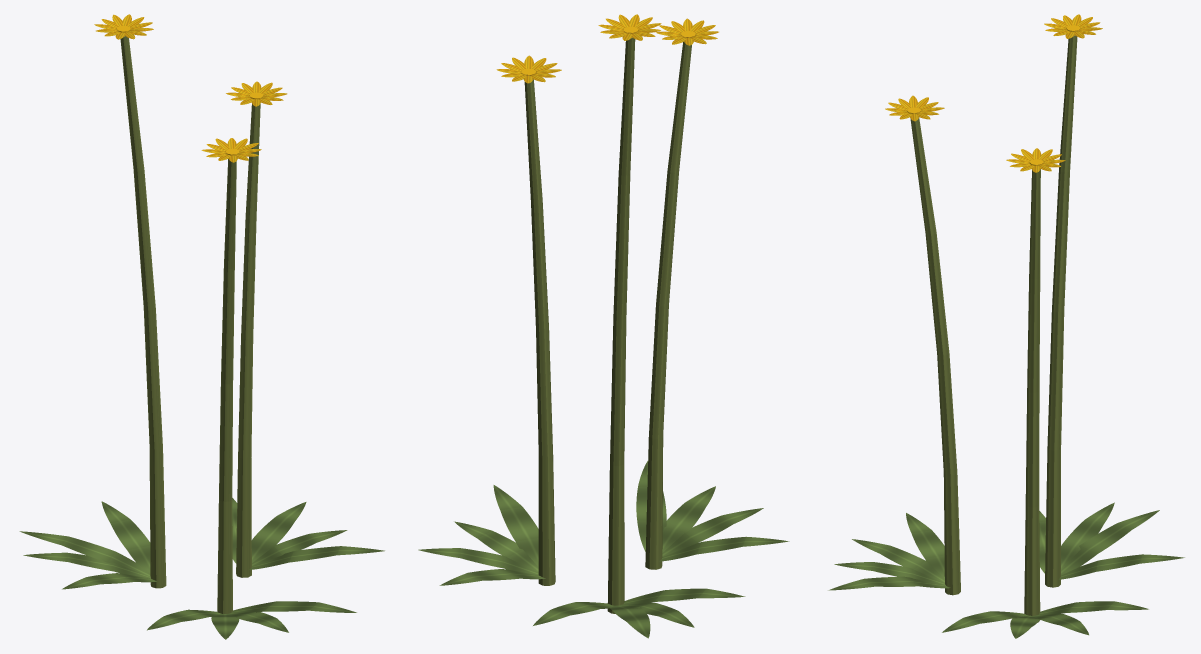
Rendered from savanna_sunflower_v01.fbx.
3 views of the same model, side by side, from view 1: azimuth 30°, elevation 25°; view 2: azimuth 150°, elevation 25°; view 3: azimuth 270°, elevation 25° (orthographic). The views are drawn at different scales.
Parts seen in each view (by area): view 1: savanna_sunflower_v01; view 2: savanna_sunflower_v01; view 3: savanna_sunflower_v01.
Part boxes in pixels (left/top/right/bottom): savanna_sunflower_v01: left=19, top=14, right=384, bottom=639; savanna_sunflower_v01: left=418, top=14, right=789, bottom=638; savanna_sunflower_v01: left=828, top=14, right=1184, bottom=638.
Size of the model in its own units: 58.32 by 64.95 by 107.
Materials: 3 (3 with a texture image).
